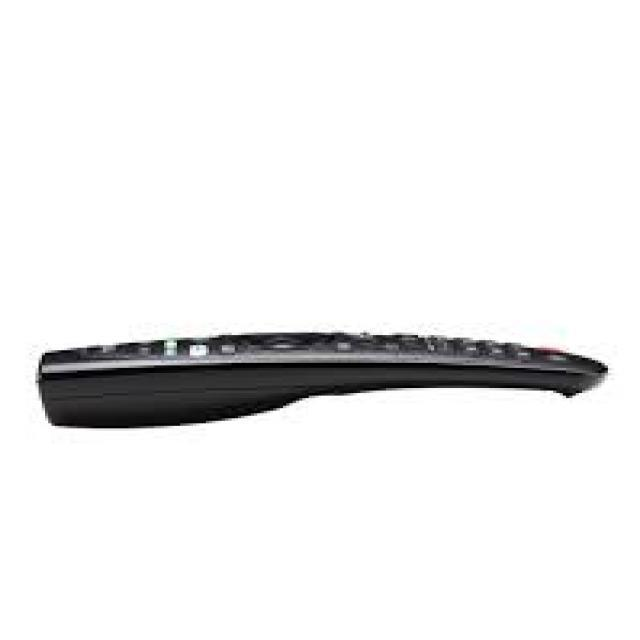remote: (38, 335, 605, 428)
